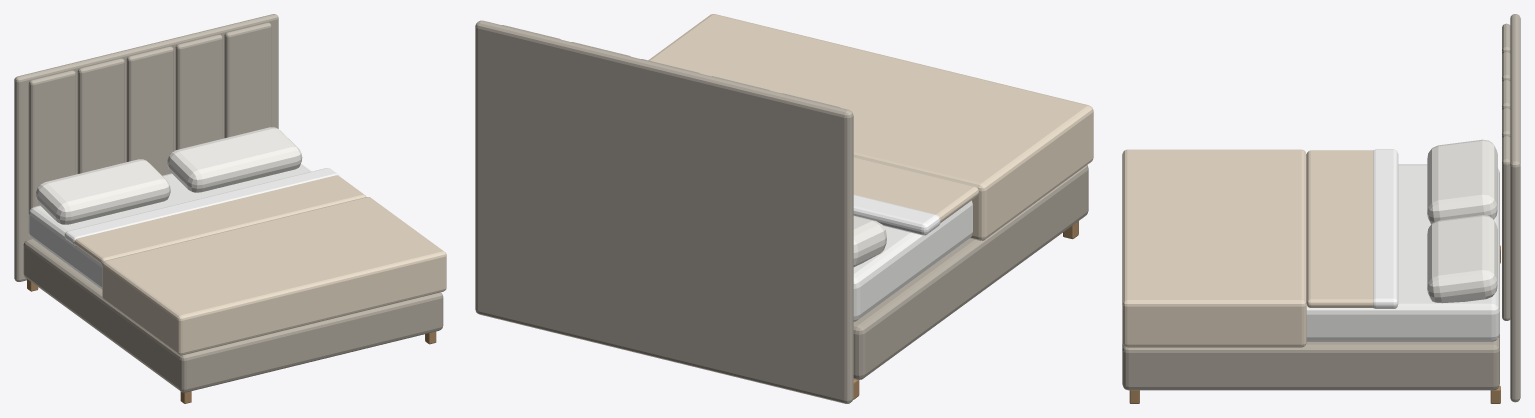
The model's file is bedQueenUpholstered.glb.
3 renders of one model, left to right at view 1: azimuth 30°, elevation 25°; view 2: azimuth 150°, elevation 25°; view 3: azimuth 270°, elevation 25°, orthographic. The views are drawn at different scales.
Parts seen in each view (by area): view 1: bedQueenUpholstered, duvet_flap; view 2: bedQueenUpholstered, duvet_flap; view 3: bedQueenUpholstered, duvet_flap.
Boxes of the visible parts, <box> form: bedQueenUpholstered: <box>14,14,446,403</box>; duvet_flap: <box>64,168,366,264</box>; bedQueenUpholstered: <box>475,14,1093,403</box>; duvet_flap: <box>853,157,978,235</box>; bedQueenUpholstered: <box>1122,14,1520,403</box>; duvet_flap: <box>1306,149,1398,308</box>.
Bounding box in the file's own units: 1.76 × 1.3 × 1.92.
